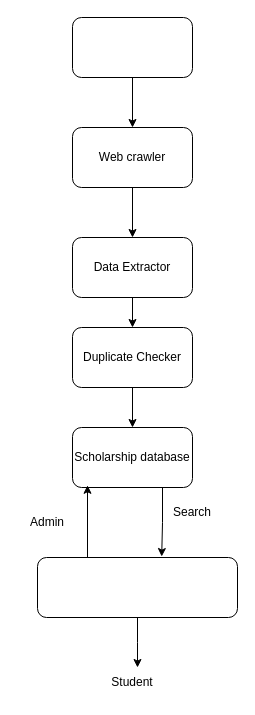
The diagram is 255 pixels wide and 715 high, and some of its shapes have lost their labels. Here are the shapes that lost their labels. From the top down, the centre of each, then its label:
pixel 132 47: Scholarship website
pixel 137 587: Scholarship search system
